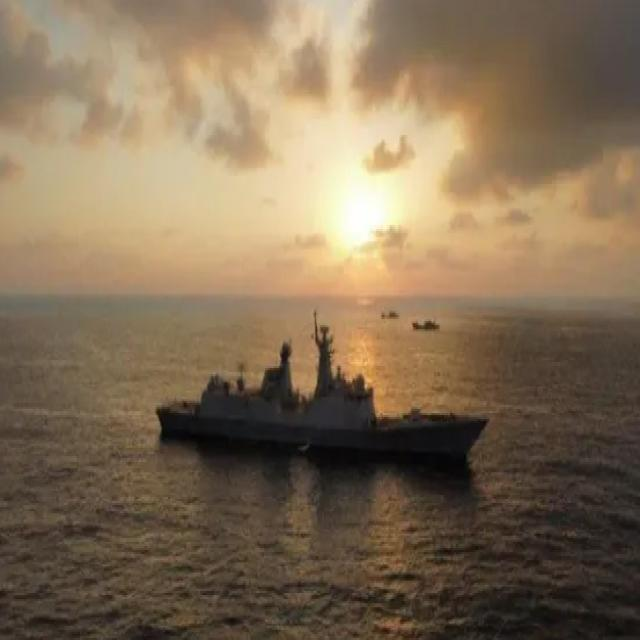navalvessels: (134, 303, 494, 477)
